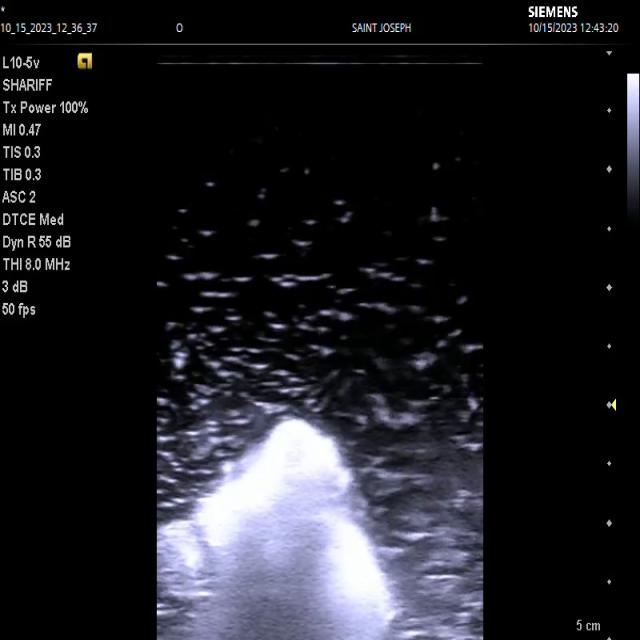tissue: (161, 420, 396, 640)
